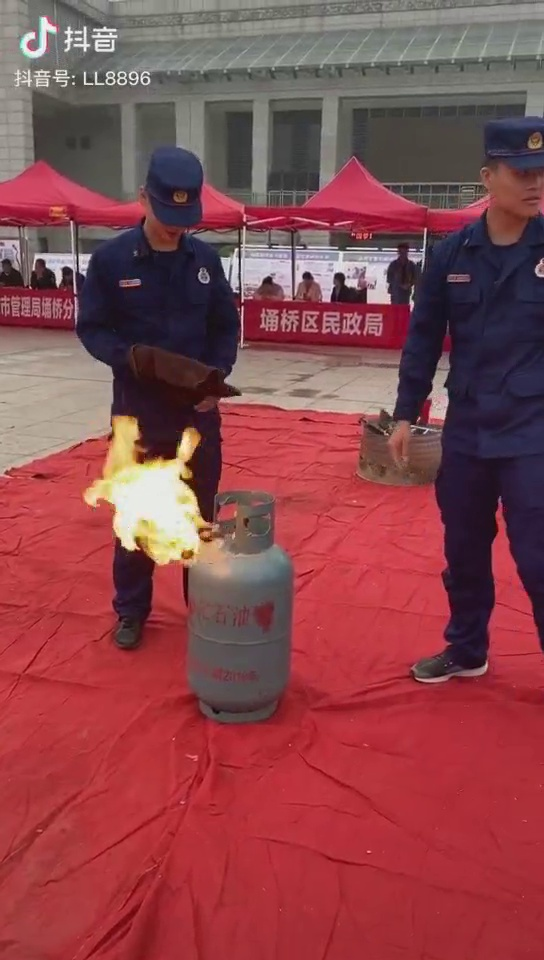fire: (80, 400, 222, 568)
